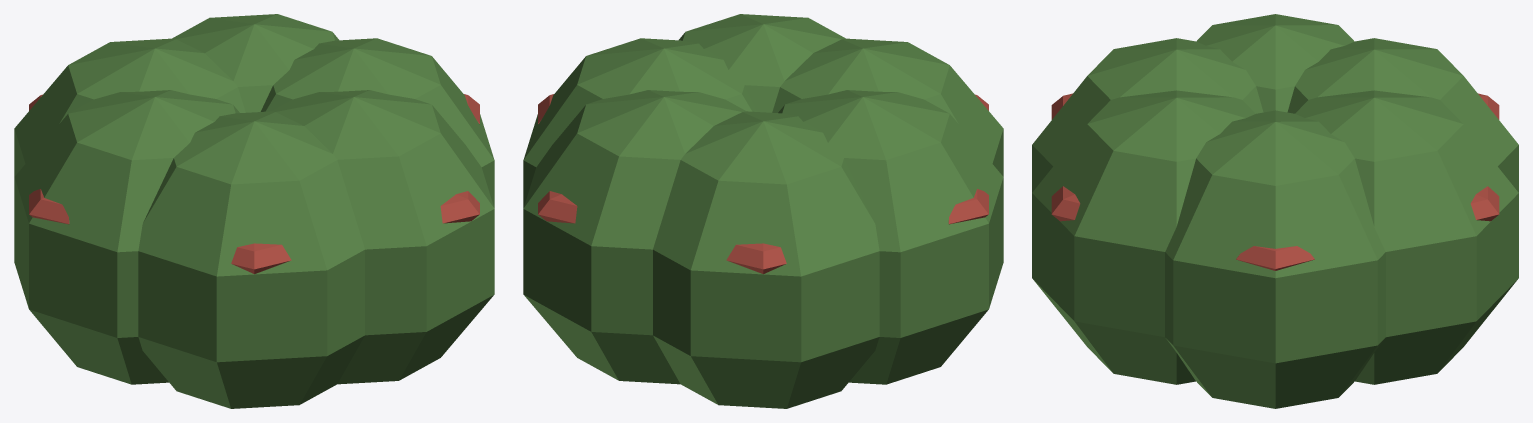
File: nature-hibiscus.lod0.glb
The picture shows the model from 3 angles, left to right: view 1: azimuth 30°, elevation 25°; view 2: azimuth 150°, elevation 25°; view 3: azimuth 270°, elevation 25°; orthographic projection.
Visible parts, largest first — view 1: nature-hibiscus__body; view 2: nature-hibiscus__body; view 3: nature-hibiscus__body.
Part boxes in pixels (box(x1,y1,x2,y2)): nature-hibiscus__body: box(14, 14, 494, 408); nature-hibiscus__body: box(523, 14, 1003, 408); nature-hibiscus__body: box(1032, 14, 1518, 408).
Bounding box in the file's own units: 1.36 × 0.8 × 1.28.
